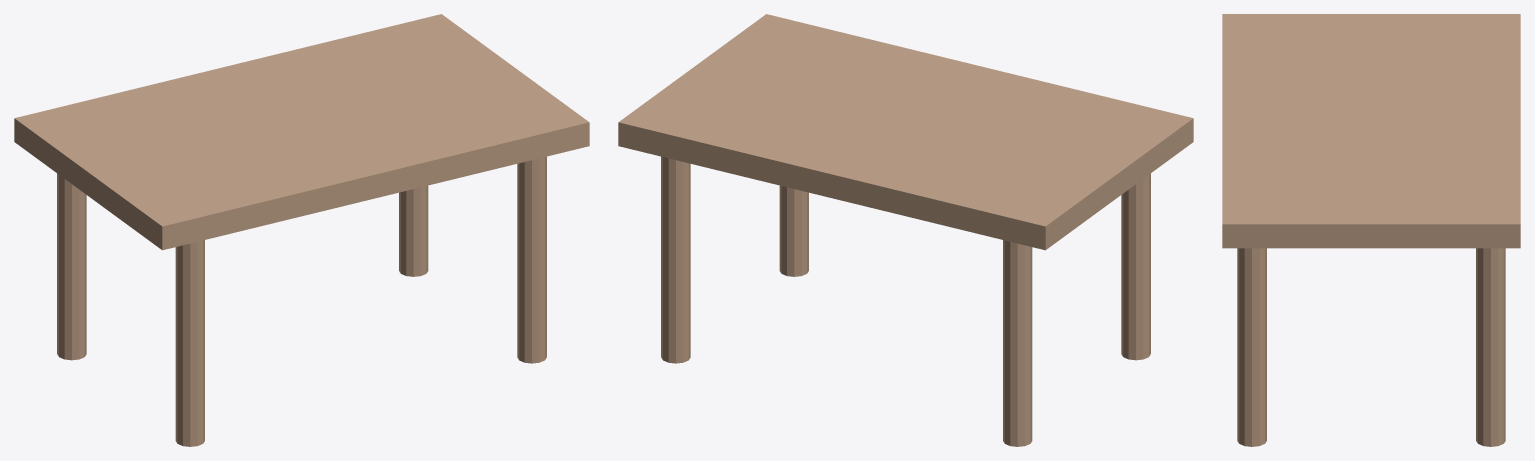
The model's file is dining_table.glb.
The picture shows the model from 3 angles, left to right: view 1: azimuth 30°, elevation 25°; view 2: azimuth 150°, elevation 25°; view 3: azimuth 270°, elevation 25°; orthographic projection.
Visible parts, largest first — view 1: dining_table_000, dining_table_003, dining_table_001, dining_table_002, dining_table_004; view 2: dining_table_000, dining_table_004, dining_table_002, dining_table_001, dining_table_003; view 3: dining_table_000, dining_table_003, dining_table_004.
Boxes of the visible parts, x1,y1,x2,y2 form: dining_table_000: (14,14,589,250); dining_table_003: (517,156,546,363); dining_table_001: (175,240,204,446); dining_table_002: (57,173,86,360); dining_table_004: (399,185,428,276); dining_table_000: (618,14,1193,250); dining_table_004: (661,156,690,363); dining_table_002: (1003,240,1032,446); dining_table_001: (1121,173,1150,360); dining_table_003: (779,185,808,276); dining_table_000: (1222,14,1520,248); dining_table_003: (1237,248,1266,446); dining_table_004: (1476,248,1505,446).
Bounding box in the file's own units: 1.5 × 0.79 × 0.9.
